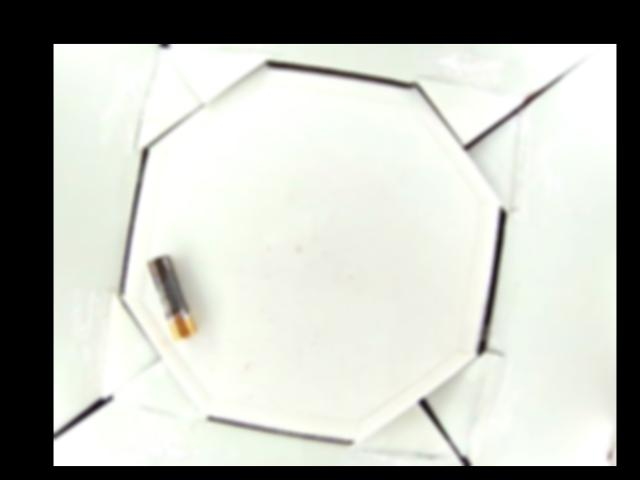Battery: (143, 255, 198, 342)
